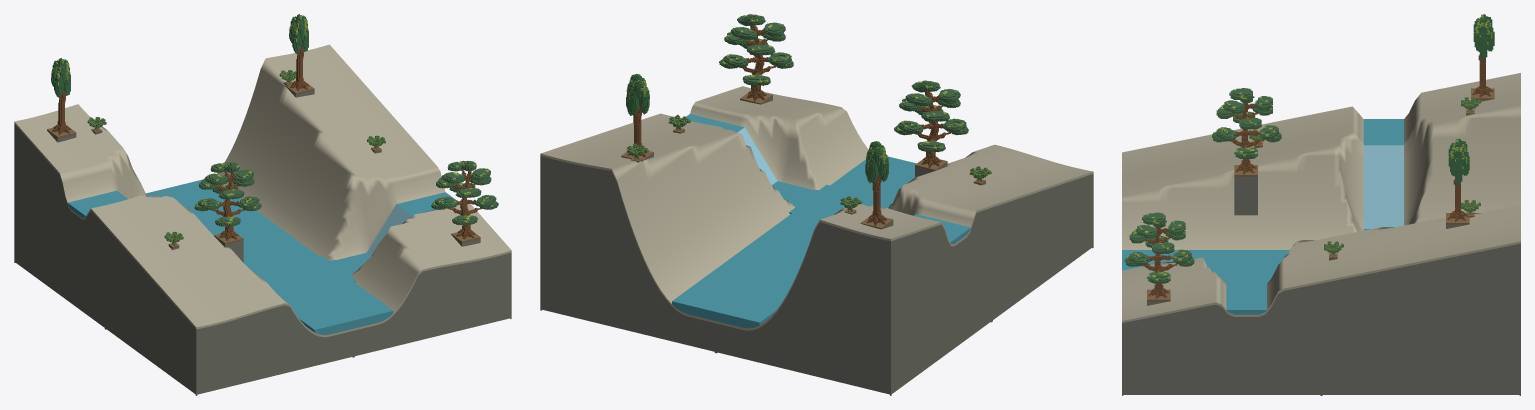
Rendered from visual-far.glb.
The picture shows the model from 3 angles, left to right: view 1: azimuth 30°, elevation 25°; view 2: azimuth 150°, elevation 25°; view 3: azimuth 270°, elevation 25°; orthographic projection. The views are drawn at different scales.
Visible parts, largest first — view 1: 连续岩土实体与最小原生岩块 (×4), 同源床面裁切的真实水域 (×5), 松类体素分枝树母版 (×2), 柏类柱冠树母版 (×2); view 2: 连续岩土实体与最小原生岩块 (×4), 同源床面裁切的真实水域 (×4), 松类体素分枝树母版 (×2), 柏类柱冠树母版 (×2); view 3: 连续岩土实体与最小原生岩块 (×4), 同源床面裁切的真实水域 (×4), 松类体素分枝树母版 (×2), 柏类柱冠树母版 (×2), 贴地独立根域与表土.
Boxes of the visible parts, x1=… form: 连续岩土实体与最小原生岩块 (×4): x1=14, y1=44, x2=511, y2=395; 同源床面裁切的真实水域 (×5): x1=67, y1=179, x2=456, y2=335; 松类体素分枝树母版 (×2): x1=194, y1=160, x2=498, y2=240; 柏类柱冠树母版 (×2): x1=51, y1=14, x2=309, y2=134; 连续岩土实体与最小原生岩块 (×4): x1=540, y1=86, x2=1093, y2=395; 同源床面裁切的真实水域 (×4): x1=672, y1=127, x2=970, y2=328; 松类体素分枝树母版 (×2): x1=719, y1=14, x2=968, y2=167; 柏类柱冠树母版 (×2): x1=626, y1=74, x2=889, y2=225; 连续岩土实体与最小原生岩块 (×4): x1=1122, y1=73, x2=1520, y2=395; 同源床面裁切的真实水域 (×4): x1=1122, y1=119, x2=1403, y2=314; 松类体素分枝树母版 (×2): x1=1124, y1=88, x2=1281, y2=298; 柏类柱冠树母版 (×2): x1=1447, y1=14, x2=1494, y2=222; 贴地独立根域与表土: x1=1234, y1=165, x2=1257, y2=215.
Bounding box in the file's own units: 64.2 × 40.6 × 64.
12 materials, 10 textured.
